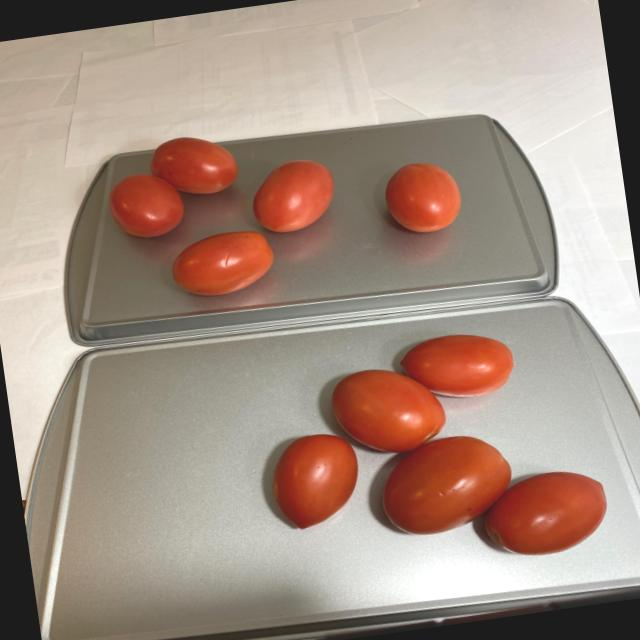tomato: (248, 314, 610, 588), (100, 100, 468, 311)
